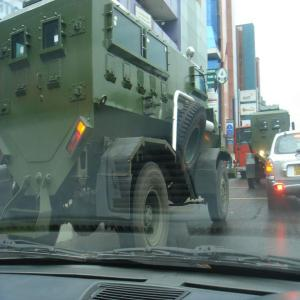Vehicle-registration-plate: (294, 166, 300, 175)
